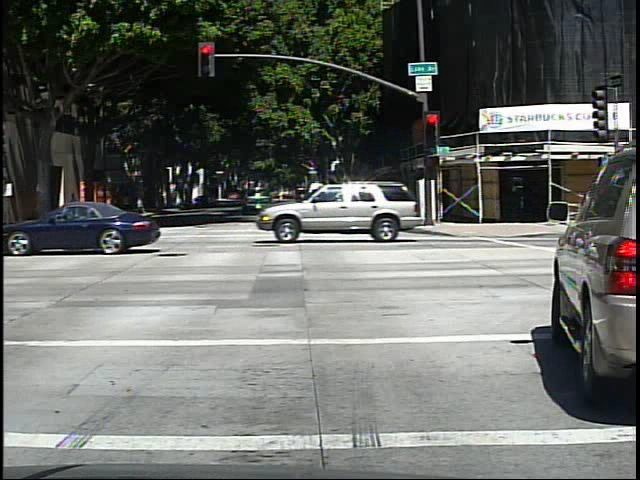person: (66, 188, 82, 222)
